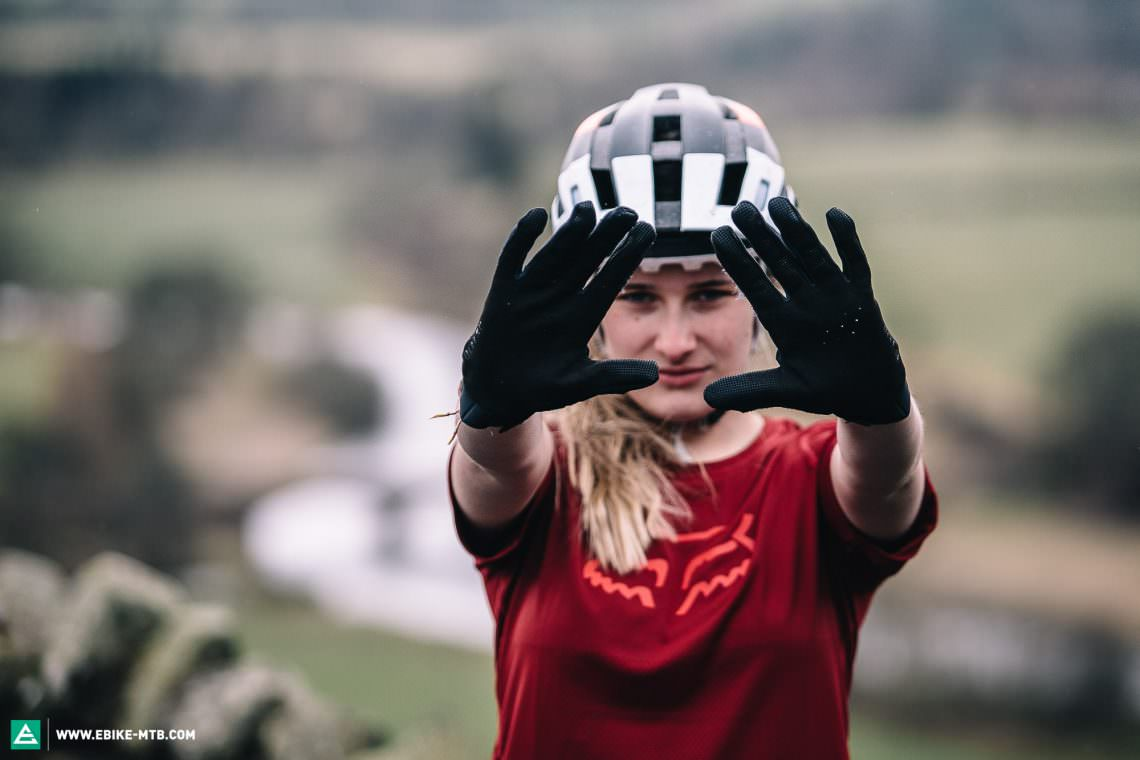helmet: (550, 81, 799, 421)
